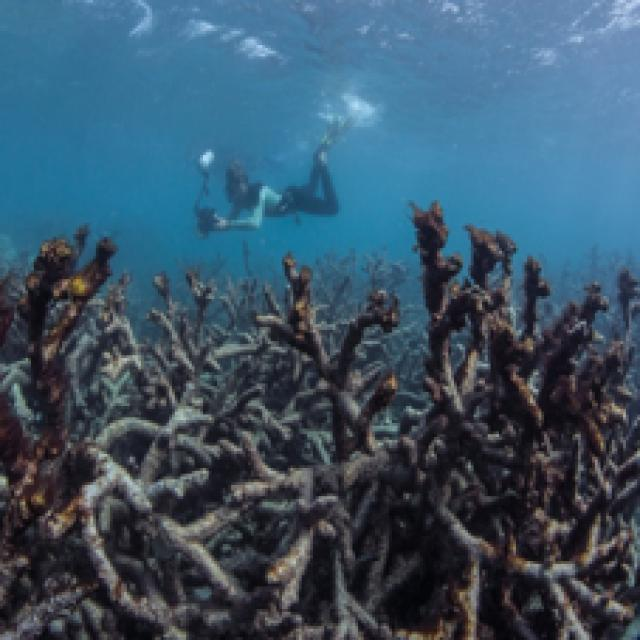Dead Coral: (93, 227, 416, 586), (394, 183, 640, 637), (0, 196, 149, 602)
